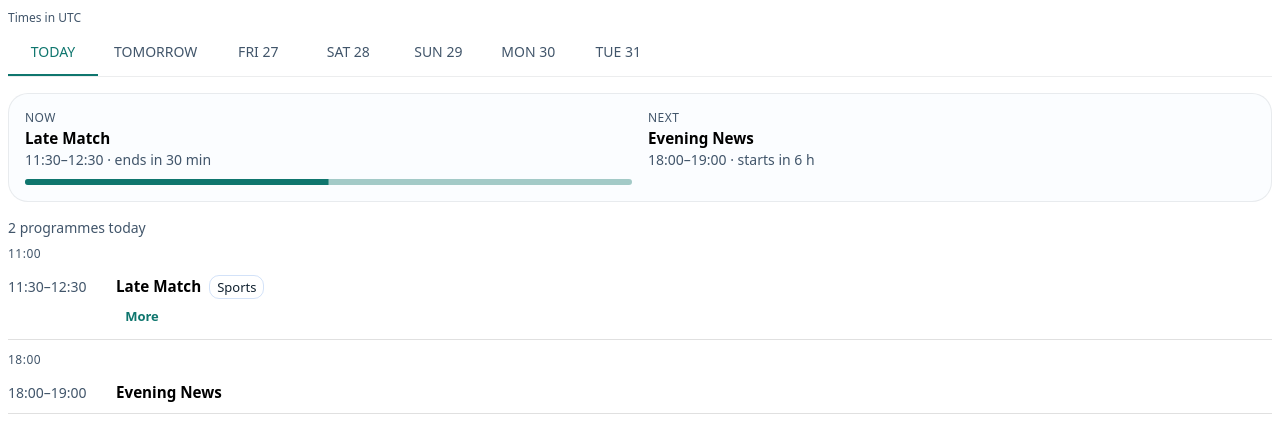
Test case: ScheduleView › switches days, refetches around the chosen day and hides now/next
The image size is (1280, 431).
Click the tab "Tomorrow" at (156, 52), box [98, 28, 213, 76]
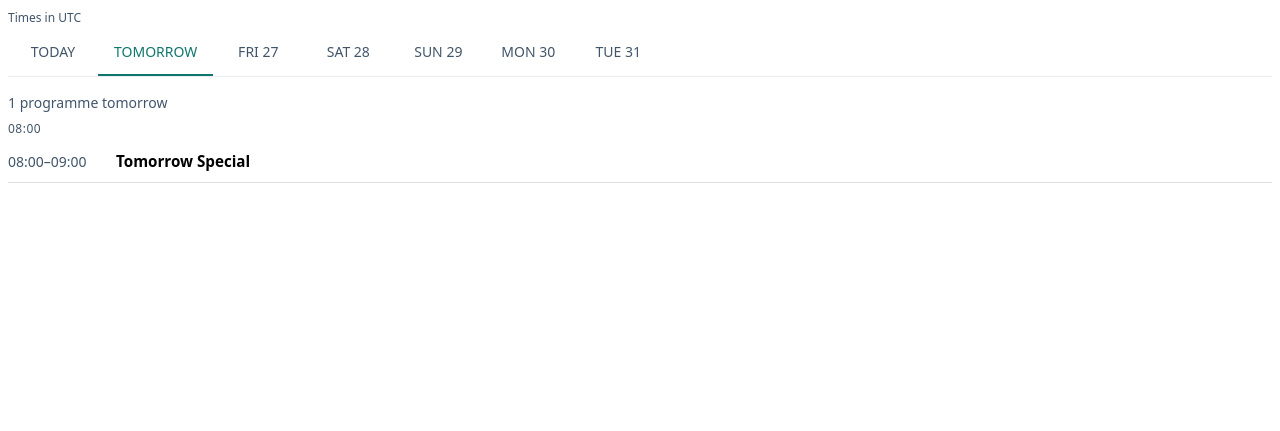
Check: the text "1 programme tomorrow" is shown, box [8, 93, 168, 112]
Check: the text "Tomorrow Special" is shown, box [116, 150, 250, 174]
